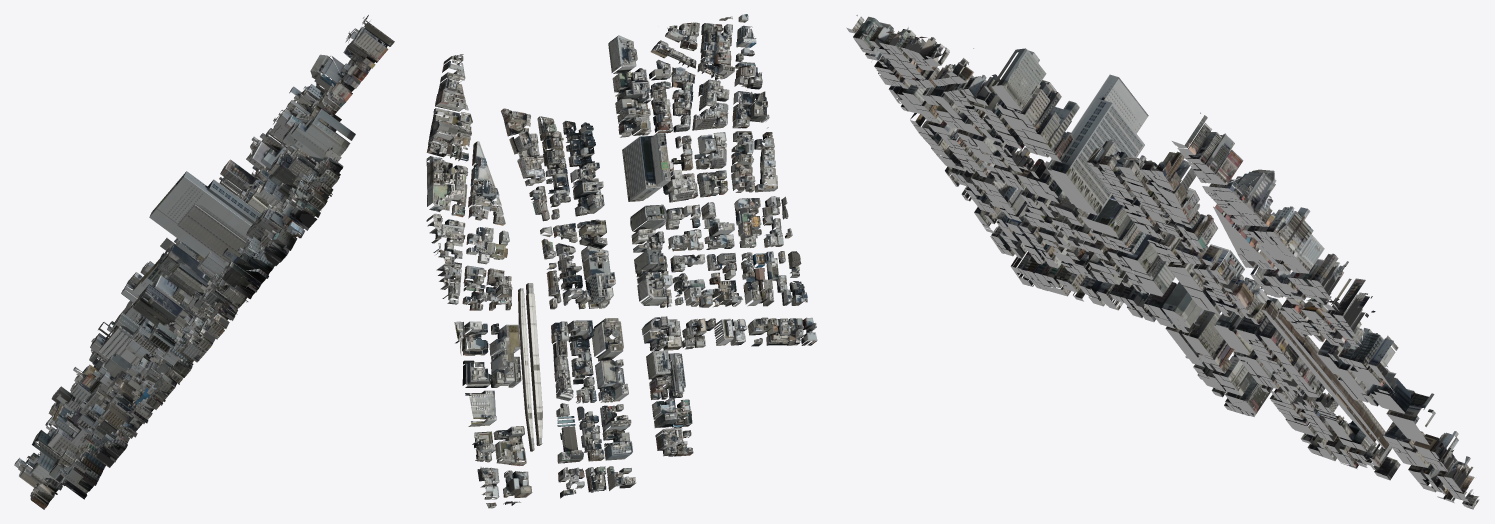
File: 9883_bldg_Building.glb
The picture shows the model from 3 angles, left to right: view 1: azimuth 30°, elevation 25°; view 2: azimuth 150°, elevation 25°; view 3: azimuth 270°, elevation 25°; orthographic projection. The views are drawn at different scales.
Visible parts, largest first — view 1: Mesh_0; view 2: Mesh_0; view 3: Mesh_0.
Part boxes in pixels (x1,y1,x2,y2): Mesh_0: [14, 15, 394, 509]; Mesh_0: [426, 14, 817, 508]; Mesh_0: [846, 15, 1479, 509].
Bounding box in the file's own units: 496 × 520 × 616.
8 materials, 7 textured.
